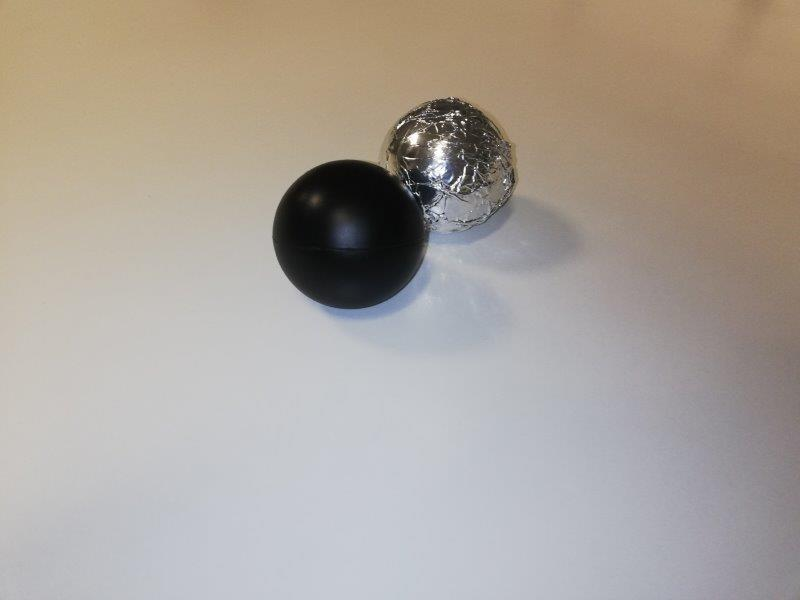bianca: (381, 98, 518, 229)
nera: (272, 164, 427, 309)
